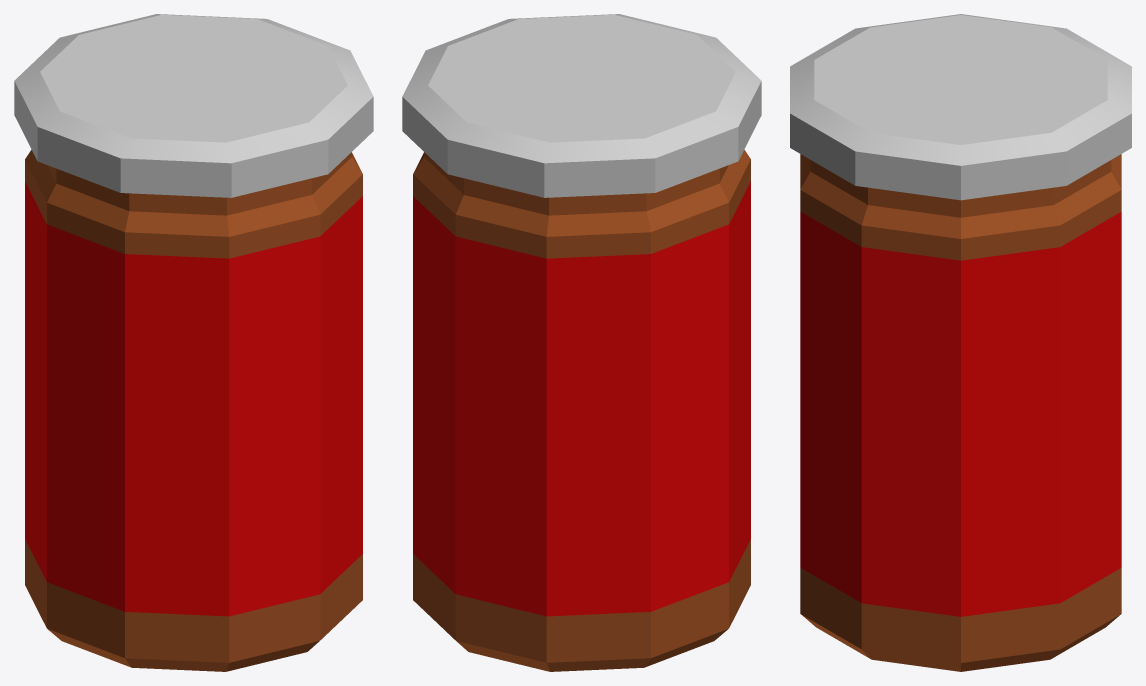
File: Jar_red.fbx
3 renders of one model, left to right at view 1: azimuth 30°, elevation 25°; view 2: azimuth 150°, elevation 25°; view 3: azimuth 270°, elevation 25°, orthographic.
Visible parts, largest first — view 1: jar_red2; view 2: jar_red2; view 3: jar_red2.
Boxes of the visible parts, x1,y1,x2,y2 form: jar_red2: (14, 14, 373, 671); jar_red2: (402, 14, 761, 671); jar_red2: (790, 14, 1131, 671).
Size of the model in its own units: 0.1174 by 0.1902 by 0.1117.
